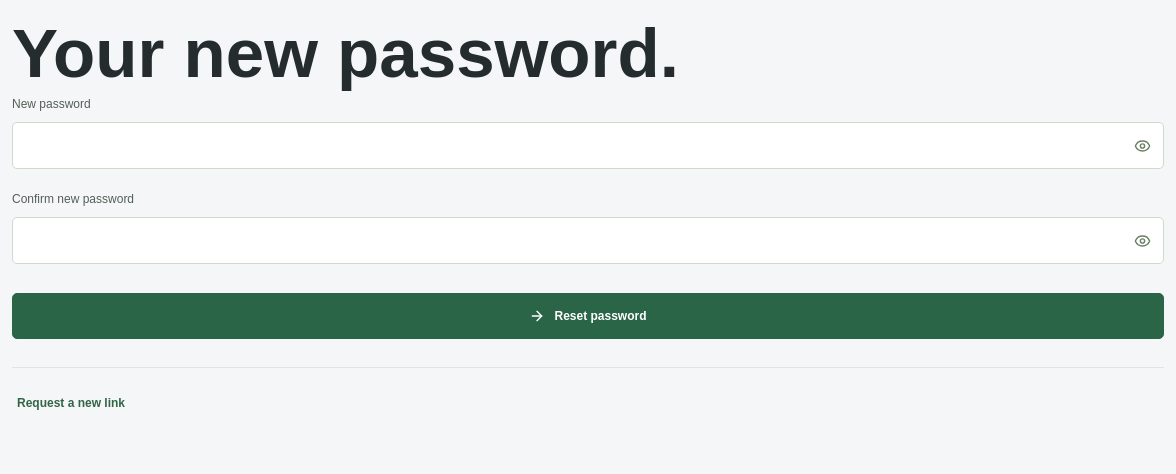
Test: Single-use password link › requires matching confirmation before contacting the server
Type "Secure replacement 2026" into the password field labelled "New password" at coordinates (588, 146), box top-left (12, 122), bottom-right (1164, 169)
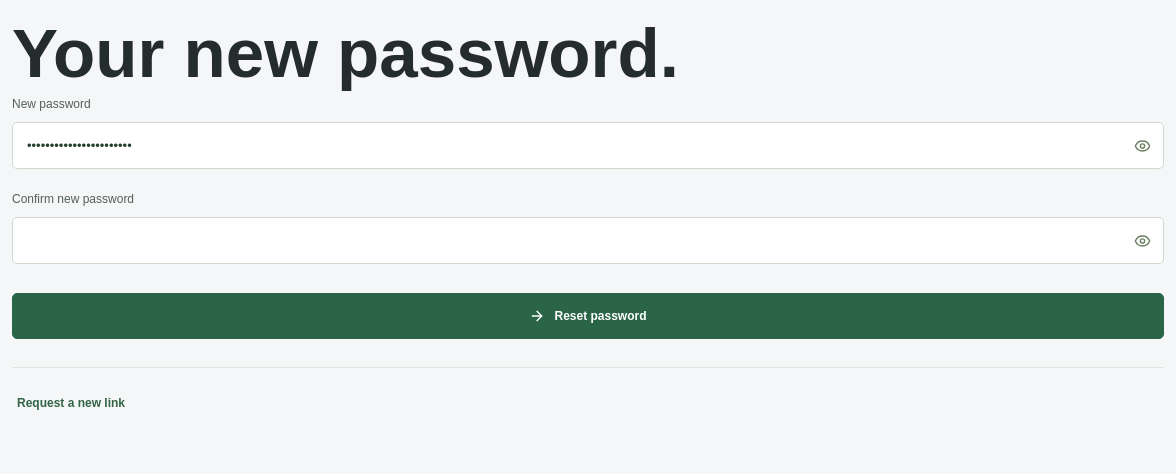
Type "Different replacement 2026" into the password field labelled "Confirm new password" at coordinates (588, 241), box top-left (12, 217), bottom-right (1164, 264)
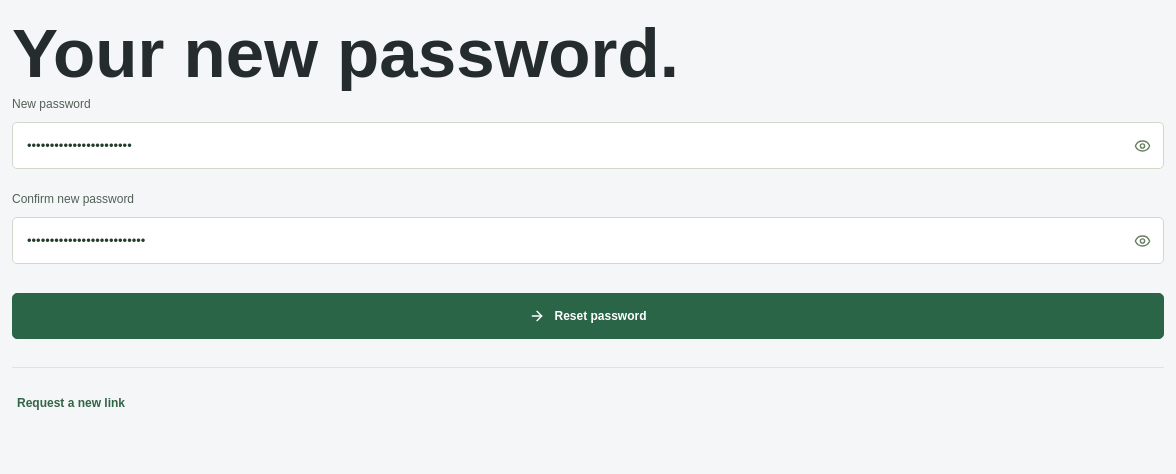
Click the button "Reset password" at coordinates (588, 316), box top-left (12, 293), bottom-right (1164, 339)
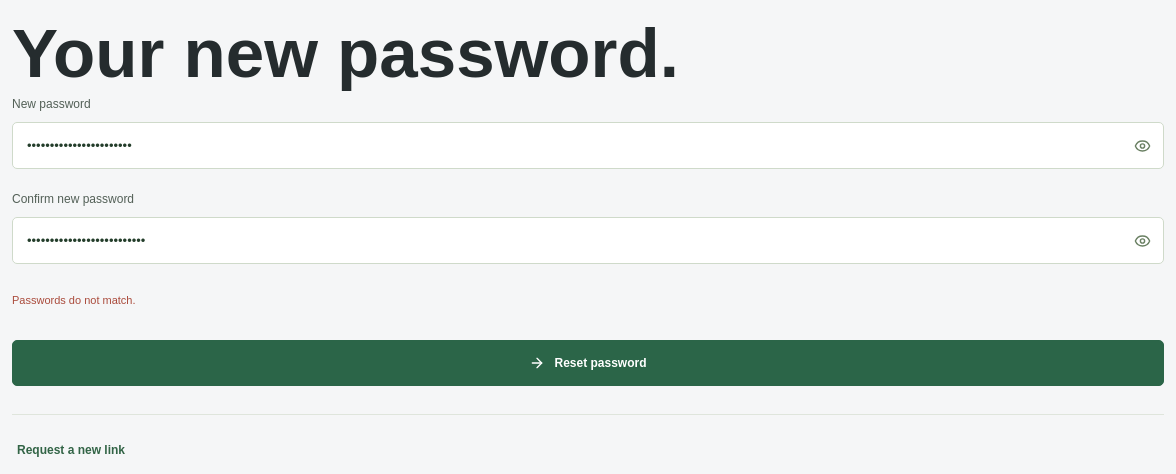
Check: the message shows "Passwords do not match", box top-left (12, 294), bottom-right (136, 306)
